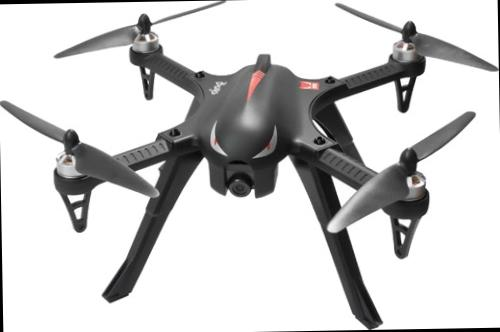drone: (11, 11, 496, 268)
